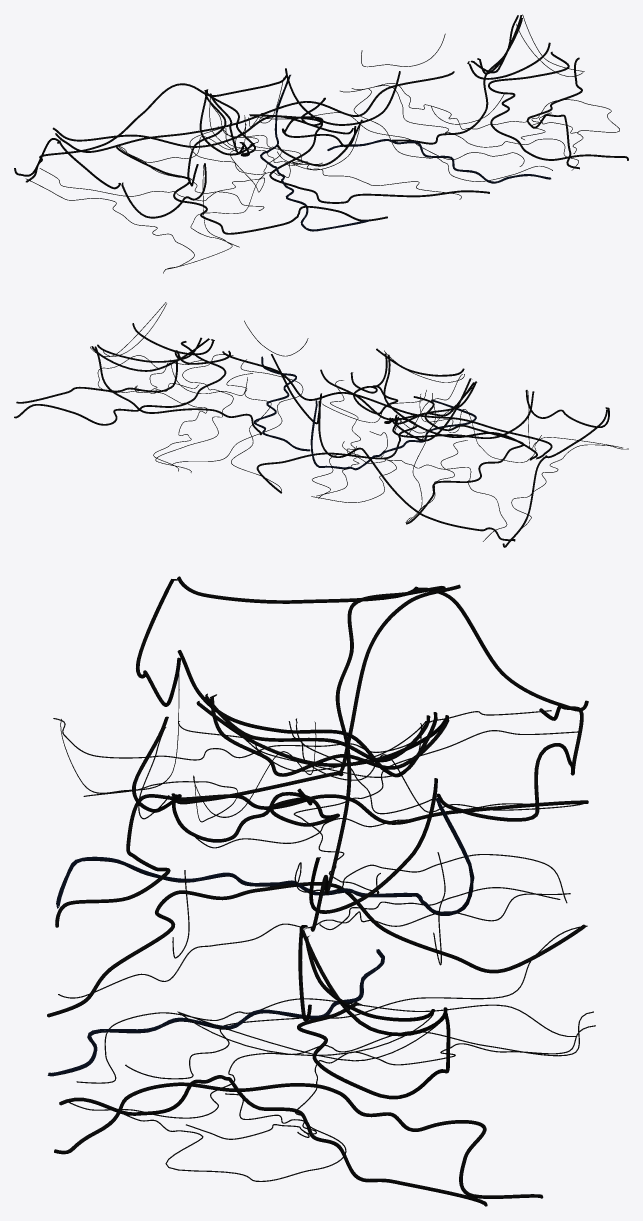
File: SM_Merged_Spline_Cables.FBX
The picture shows the model from 3 angles, top to bottom: view 1: azimuth 30°, elevation 25°; view 2: azimuth 150°, elevation 25°; view 3: azimuth 270°, elevation 25°; orthographic projection. The views are drawn at different scales.
Parts seen in each view (by area): view 1: SM_MERGED_Spline_cables51; view 2: SM_MERGED_Spline_cables51; view 3: SM_MERGED_Spline_cables51.
Boxes of the visible parts, x1,y1,x2,y2 form: SM_MERGED_Spline_cables51: (14,14,628,273); SM_MERGED_Spline_cables51: (14,302,628,547); SM_MERGED_Spline_cables51: (47,576,595,1206).
Size of the model in its own units: 3401 by 1568 by 471.
